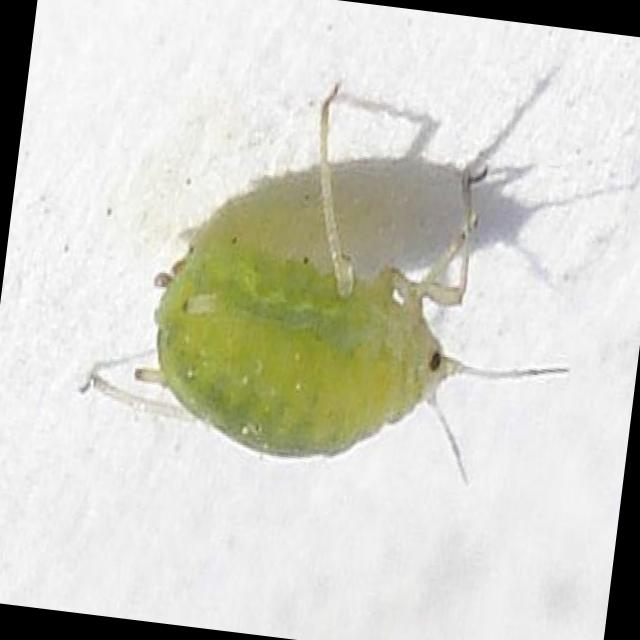Aphids: (45, 42, 595, 596)
